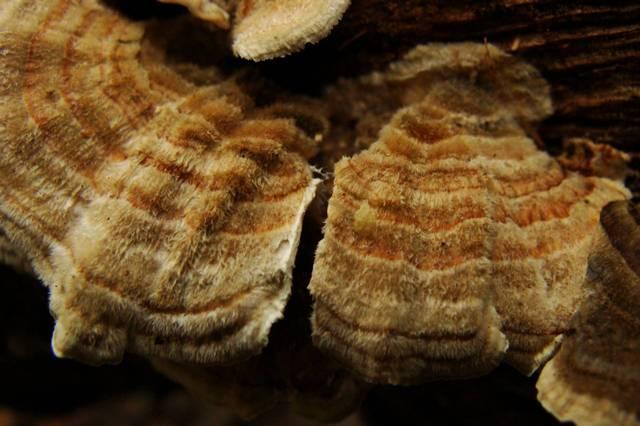poisonous_mushroom: (0, 0, 325, 368), (305, 40, 636, 387)
